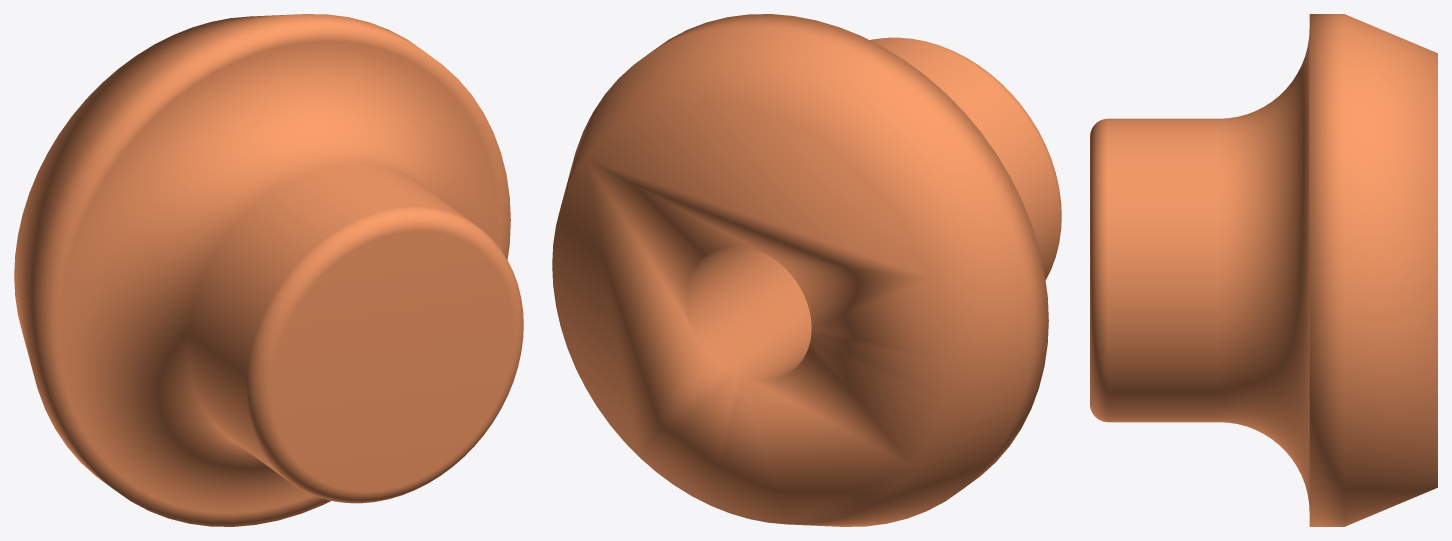
File: Knob_Color.glb
3 views of the same model, side by side, from view 1: azimuth 30°, elevation 25°; view 2: azimuth 150°, elevation 25°; view 3: azimuth 270°, elevation 25° (orthographic). The views are drawn at different scales.
Parts seen in each view (by area): view 1: Soile_Volume; view 2: Soile_Volume; view 3: Soile_Volume.
Boxes of the visible parts, box(x1,y1,x2,y2) form: Soile_Volume: box(14, 14, 523, 526); Soile_Volume: box(552, 14, 1061, 526); Soile_Volume: box(1090, 14, 1437, 526).
Bounding box in the file's own units: 22.7 × 22.7 × 15.38.
